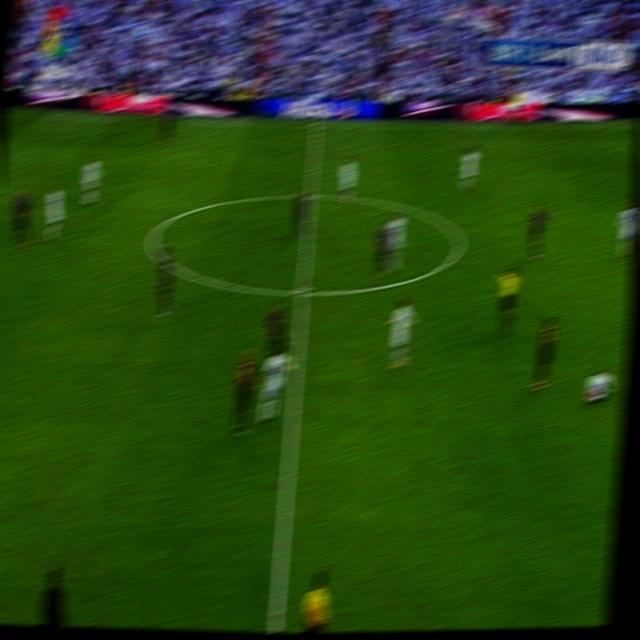halfcircle_bottom: (293, 278, 312, 306)
halfcircle_top: (302, 184, 319, 206)
midline_bottom_intersection: (266, 613, 288, 633)
midline_top_intersection: (310, 119, 324, 132)
